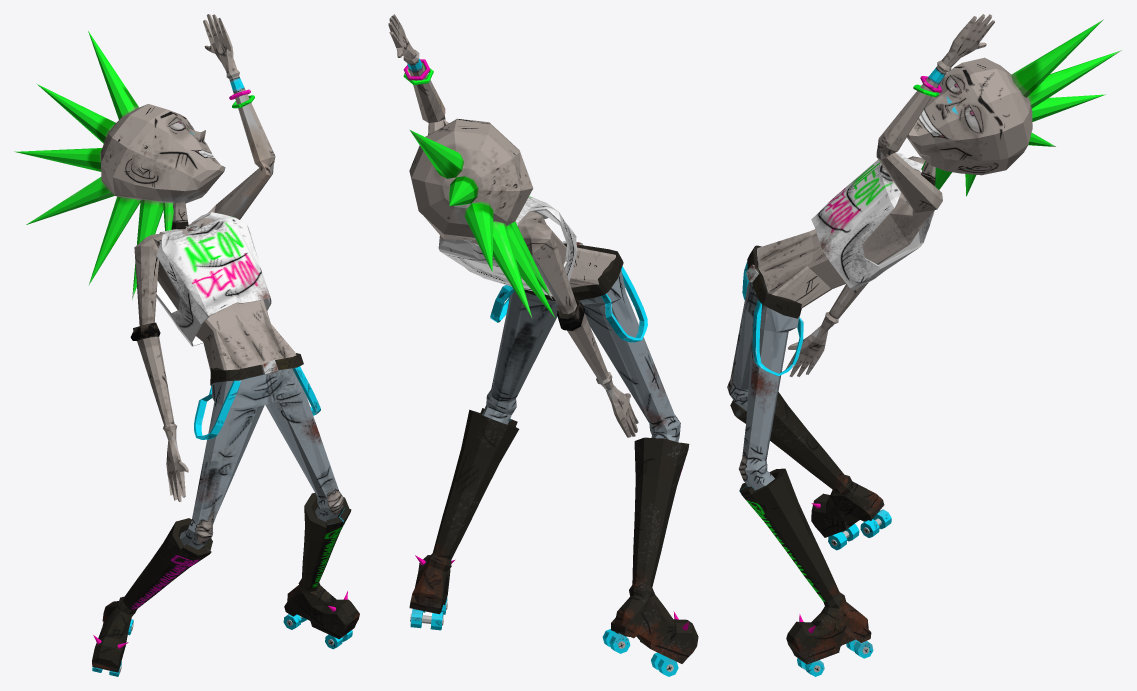
Rendered from punkAnimation_000097.obj.
3 views of the same model, side by side, from view 1: azimuth 30°, elevation 25°; view 2: azimuth 150°, elevation 25°; view 3: azimuth 270°, elevation 25° (orthographic). The views are drawn at different scales.
Visible parts, largest first — view 1: Cube.004_Cube.003; view 2: Cube.004_Cube.003; view 3: Cube.004_Cube.003.
Boxes of the visible parts, <box> form: Cube.004_Cube.003: <box>14,14,359,676</box>; Cube.004_Cube.003: <box>388,14,698,676</box>; Cube.004_Cube.003: <box>727,14,1121,676</box>.
Bounding box in the file's own units: 2.91 × 6.39 × 3.61.
